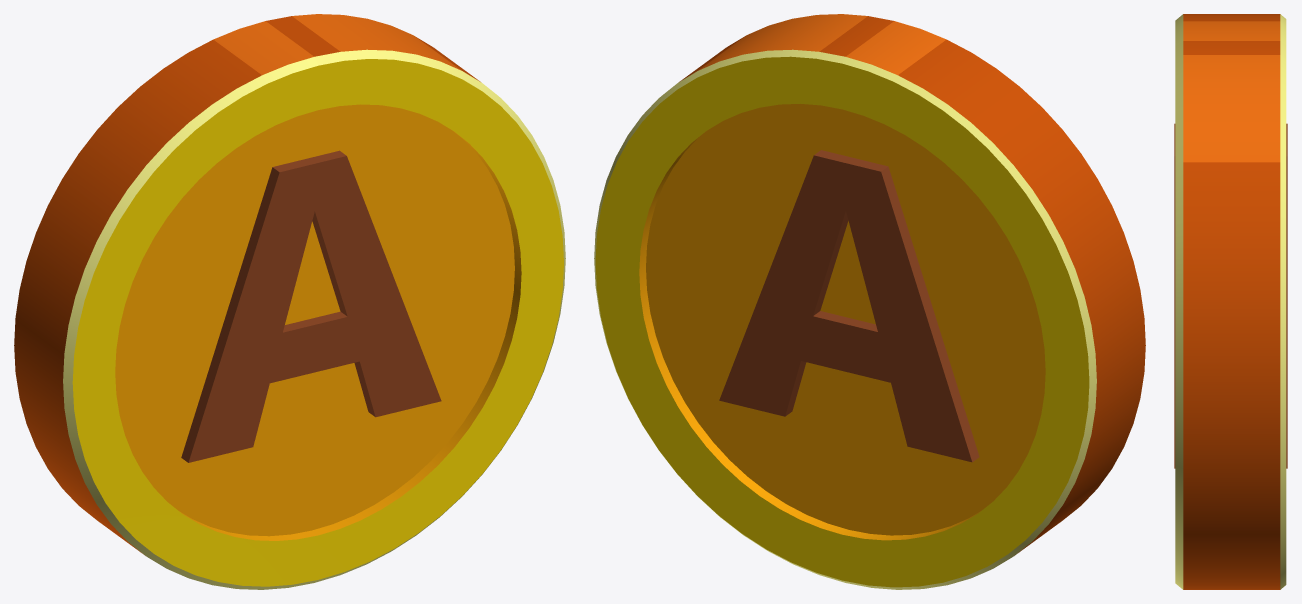
File: coin.fbx
3 renders of one model, left to right at view 1: azimuth 30°, elevation 25°; view 2: azimuth 150°, elevation 25°; view 3: azimuth 270°, elevation 25°, orthographic.
Visible parts, largest first — view 1: Cylinder, Plane; view 2: Cylinder, Plane; view 3: Cylinder, Plane.
Part boxes in pixels (x1=…): Cylinder: x1=14, y1=14, x2=565, y2=589; Plane: x1=181, y1=150, x2=441, y2=462; Cylinder: x1=594, y1=14, x2=1145, y2=589; Plane: x1=719, y1=150, x2=979, y2=462; Cylinder: x1=1175, y1=14, x2=1286, y2=589; Plane: x1=1174, y1=123, x2=1287, y2=468.
Bounding box in the file's own units: 200 × 200 × 39.36.
1 material, 1 textured.
